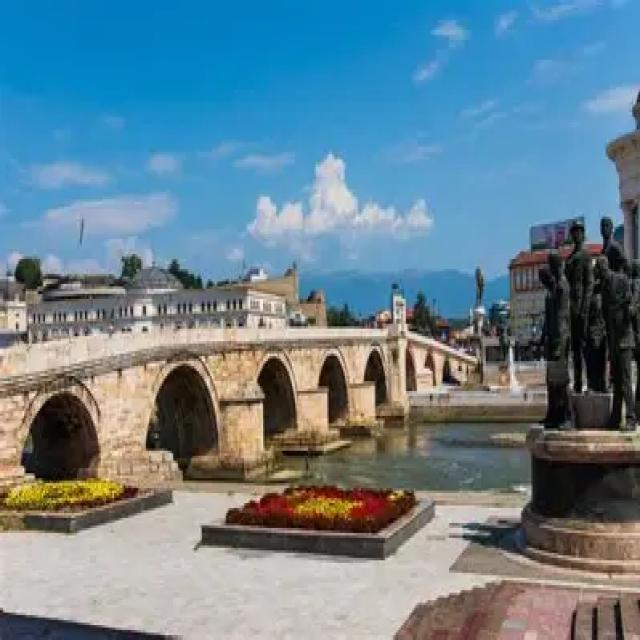Stone Bridge: (0, 242, 498, 494)
